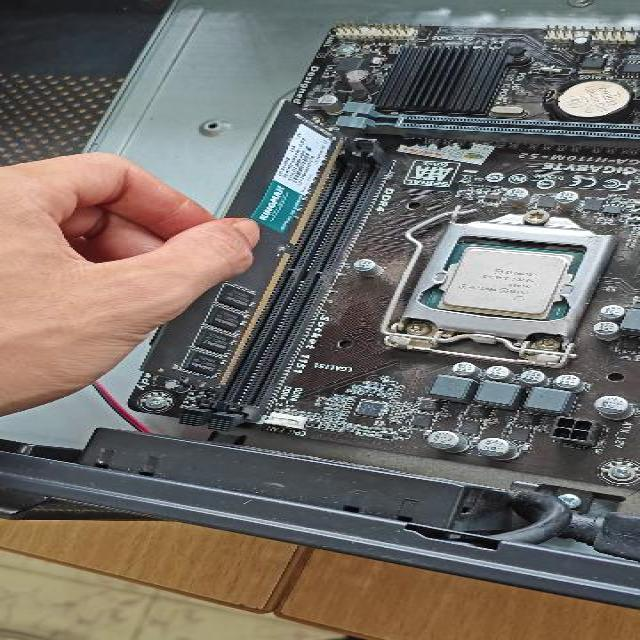CPU: (436, 242, 576, 320)
Mainboard: (128, 0, 640, 507)
RAM: (136, 99, 351, 394)
